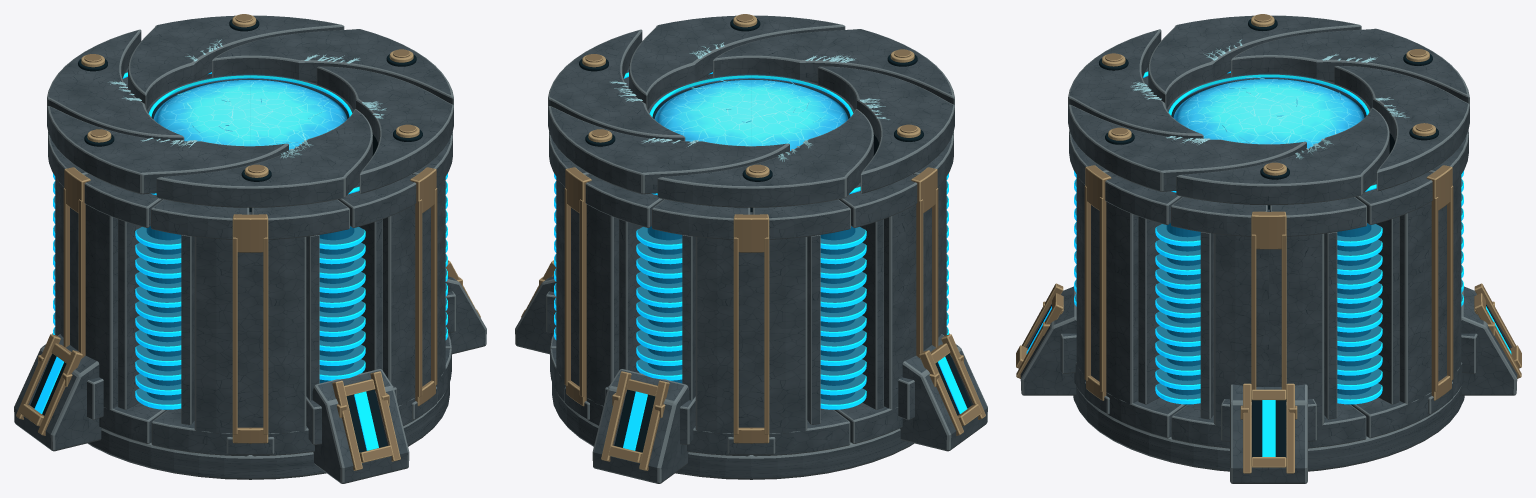
Rendered from frost.glb.
3 renders of one model, left to right at view 1: azimuth 30°, elevation 25°; view 2: azimuth 150°, elevation 25°; view 3: azimuth 270°, elevation 25°, orthographic.
Parts seen in each view (by area): view 1: Frost fixed body solid, Frost fixed iris solid, Frost fixed iris skin; view 2: Frost fixed body solid, Frost fixed iris solid, Frost fixed iris skin; view 3: Frost fixed body solid, Frost fixed iris solid, Frost fixed iris skin.
Part boxes in pixels (x1=…): Frost fixed body solid: x1=14, y1=67, x2=486, y2=483; Frost fixed iris solid: x1=47, y1=14, x2=453, y2=207; Frost fixed iris skin: x1=152, y1=74, x2=348, y2=145; Frost fixed body solid: x1=515, y1=67, x2=987, y2=483; Frost fixed iris solid: x1=548, y1=14, x2=954, y2=207; Frost fixed iris skin: x1=653, y1=74, x2=849, y2=145; Frost fixed body solid: x1=1016, y1=67, x2=1521, y2=483; Frost fixed iris solid: x1=1068, y1=14, x2=1469, y2=205; Frost fixed iris skin: x1=1172, y1=73, x2=1365, y2=119.
Bounding box in the file's own units: 0.8169 × 0.5344 × 0.8169.
Materials: 13 (3 with a texture image).
